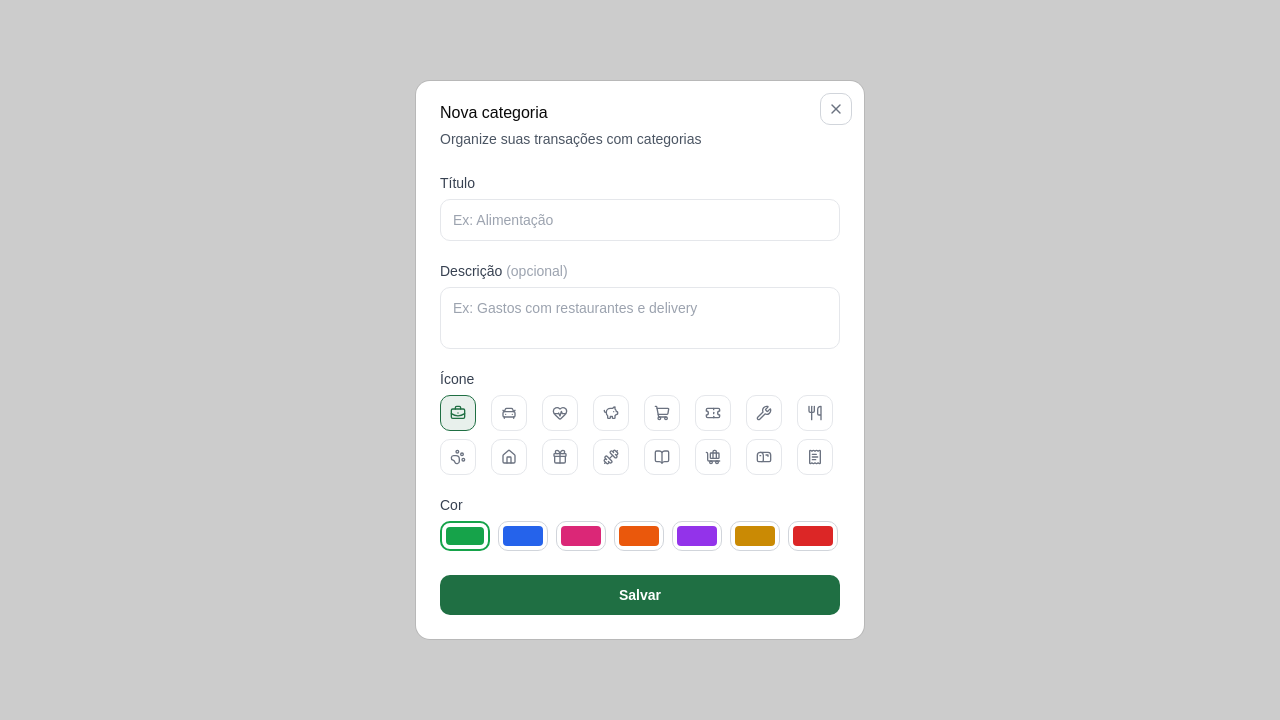
Test: CategoryFormDialog › shows validation error when name is empty on submit
The image size is (1280, 720).
Click the button "Salvar" at coordinates (640, 595), box [440,575,840,615]
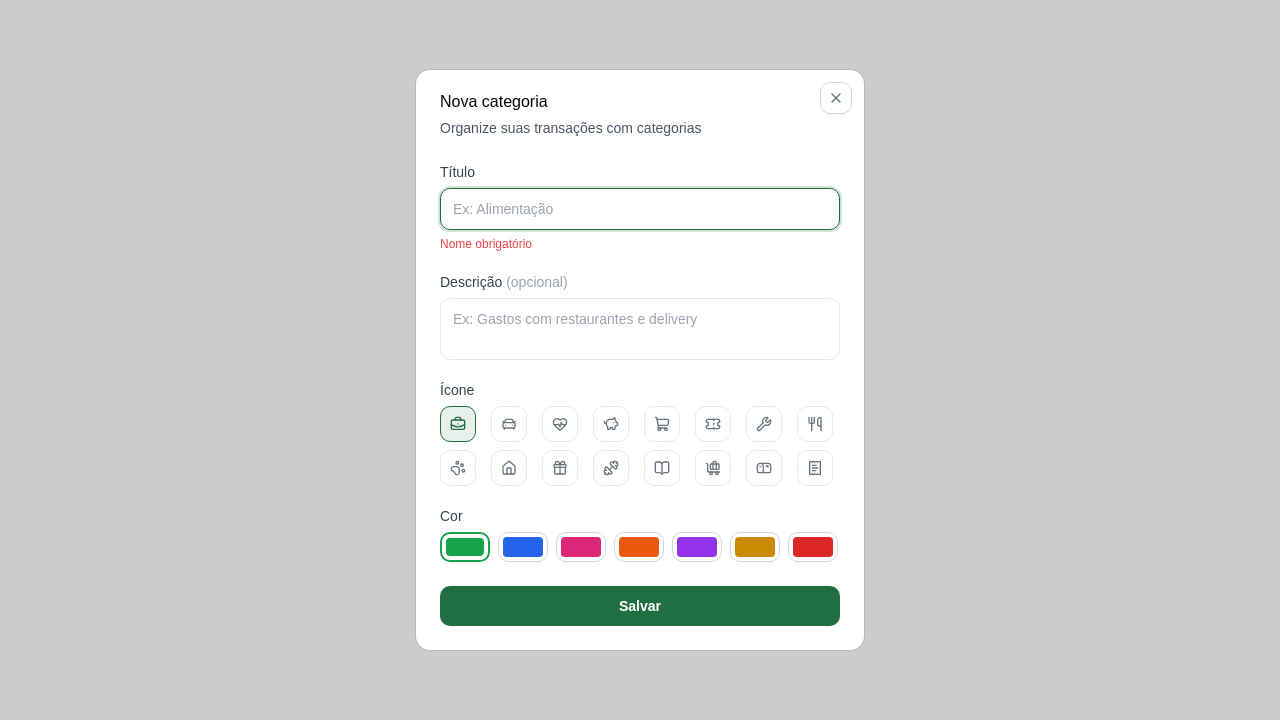
Check: the text "Nome obrigatório" is shown, box [440,237,532,251]
